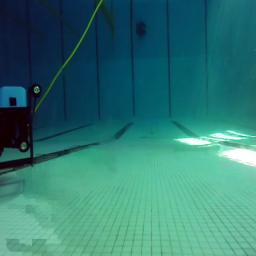Full: (136, 22, 146, 38)
front: (1, 84, 41, 168)
